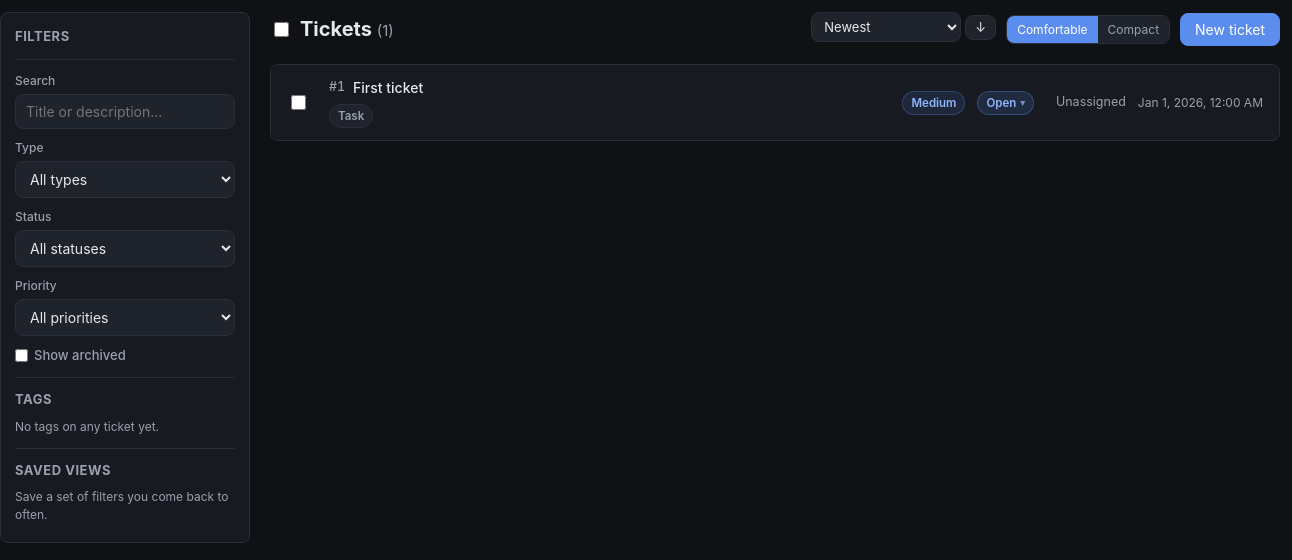
TicketList row edits › changes a status from the row and merges the response without refetching
Expected: the text "First ticket" is shown, [353,79,423,96]
Click the button with aria-label "Change status": (1006, 103) [978,90,1034,115]
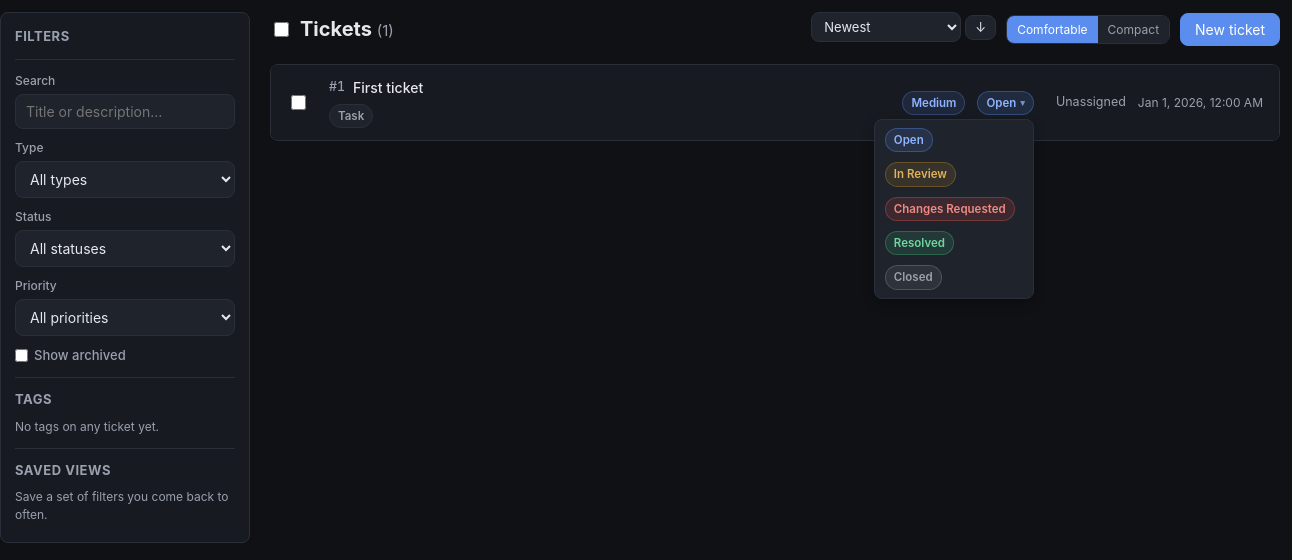
Click the option "Resolved": (954, 243) [879,227,1029,260]
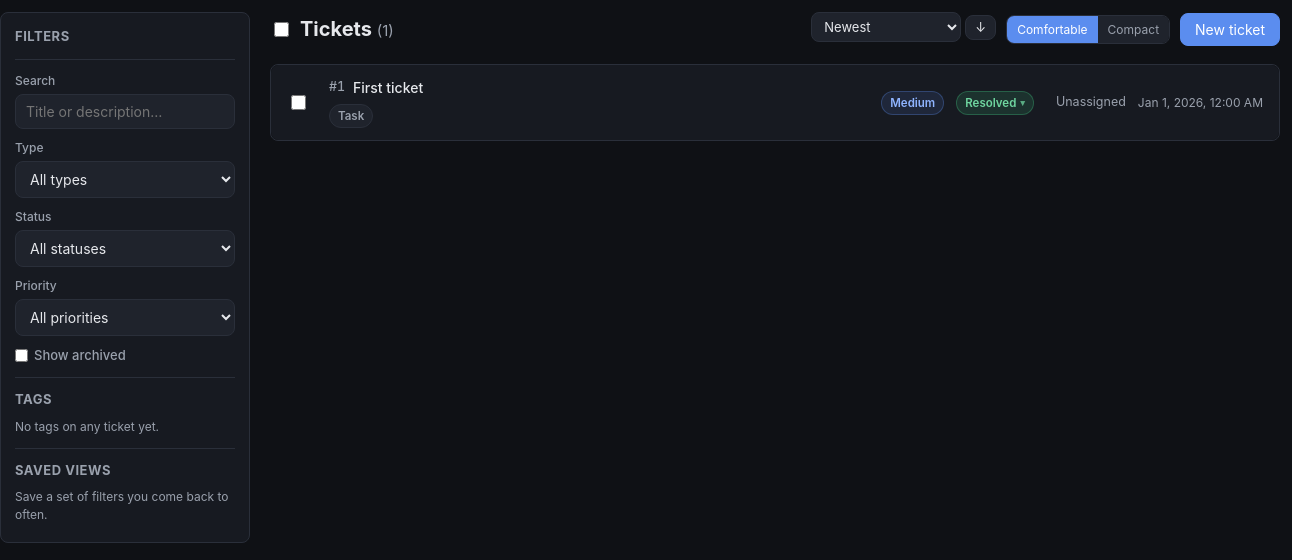
Now the button with aria-label "Status: Resolved" is shown, box [956,90,1034,115]
